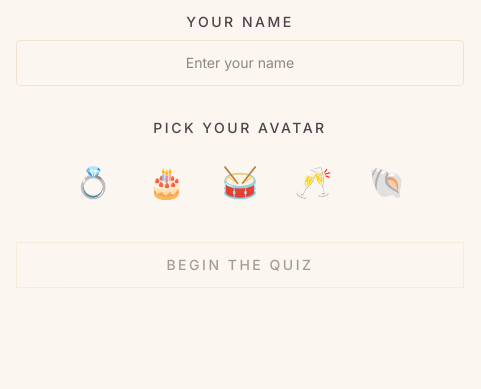
QuizModule › transitions to done screen after answering
Type "Ola" into the field with placeholder "Enter your name" at [240, 63], box [16,40,464,86]
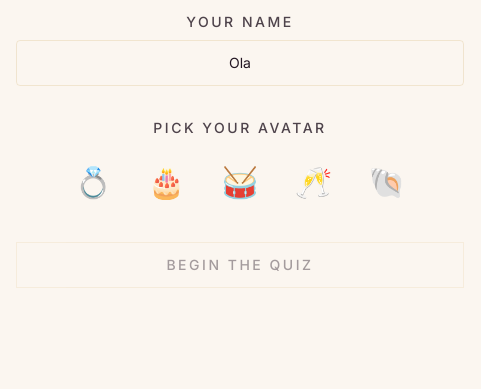
Click the button named "select 💍 avatar" at [93, 182], box [64,154,122,210]
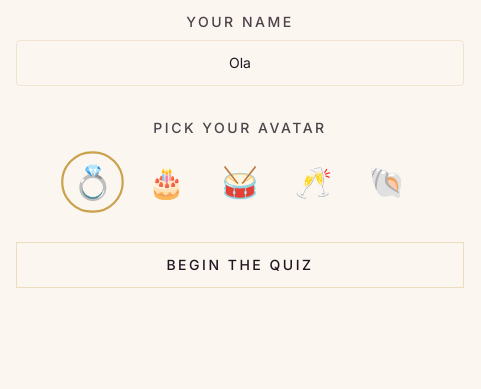
Click the button "Begin the Quiz" at [240, 265], box [16,242,464,288]
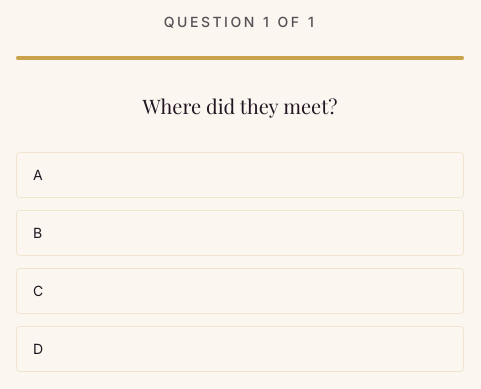
Click the button "B" at [38, 232], box [16,210,464,256]
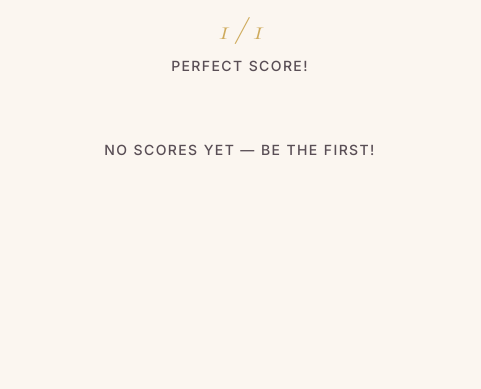
Check: the text "1 / 1" is shown, box [218,11,262,48]
